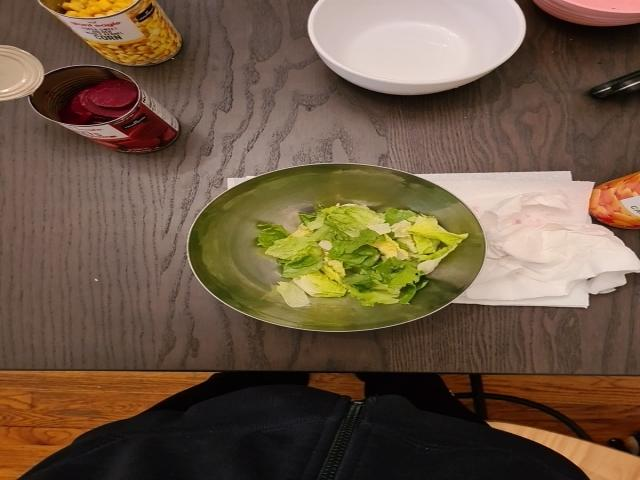kichen waste: (253, 204, 465, 306)
